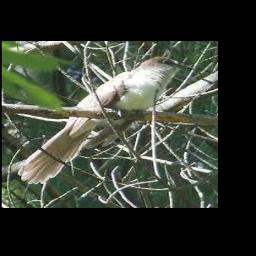Cuckoo: (18, 57, 196, 184)
